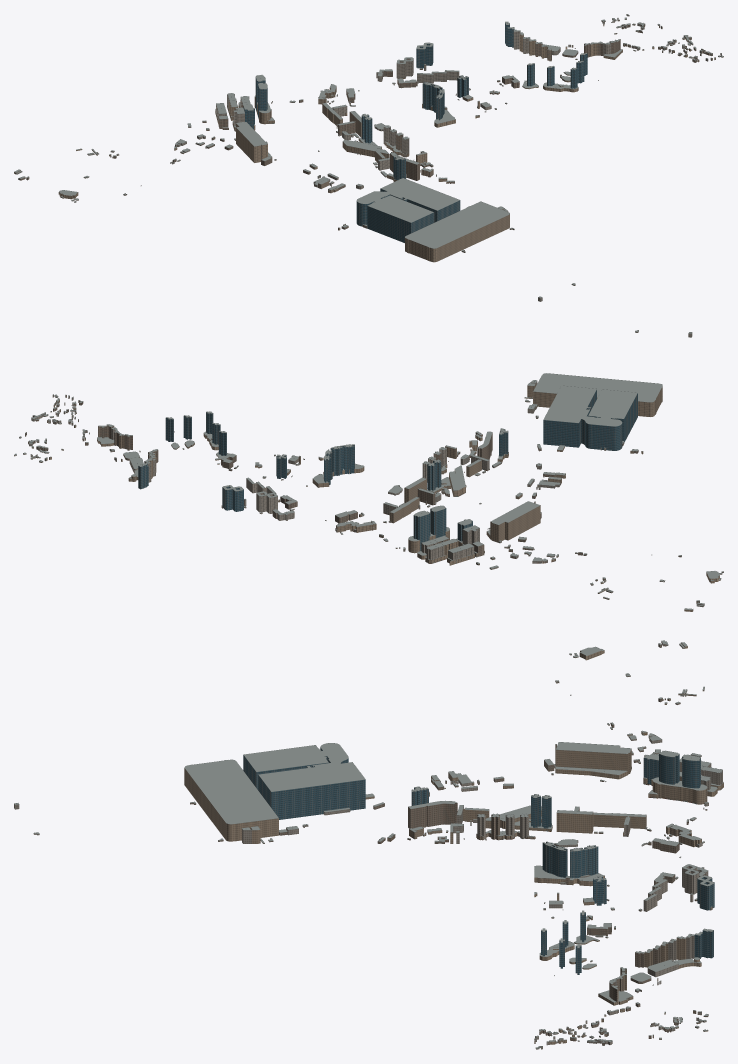
File: lai-king-buildings.glb
The picture shows the model from 3 angles, top to bottom: view 1: azimuth 30°, elevation 25°; view 2: azimuth 150°, elevation 25°; view 3: azimuth 270°, elevation 25°; orthographic projection. The views are drawn at different scales.
Visible parts, largest first — view 1: District_-40_-42, District_-38_-40, District_-41_-49, District_-37_-45, District_-37_-47, District_-28_-49, District_-30_-51, District_-38_-47, District_-40_-51, District_-39_-51, District_-34_-48; view 2: District_-40_-42, District_-38_-40, District_-41_-49, District_-40_-51, District_-39_-51, District_-34_-48, District_-37_-48, District_-37_-45, District_-33_-51, District_-37_-47, District_-28_-49, District_-30_-51 (+5 smaller); view 3: District_-40_-42, District_-38_-40, District_-41_-49, District_-39_-51, District_-37_-45, District_-34_-48, District_-30_-51, District_-37_-48, District_-37_-47, District_-30_-50, District_-37_-49, District_-39_-50.
Part boxes in pixels (left/top/right/bottom): District_-40_-42: left=356, top=178, right=460, bottom=242; District_-38_-40: left=405, top=201, right=509, bottom=262; District_-41_-49: left=224, top=121, right=267, bottom=162; District_-37_-45: left=390, top=152, right=433, bottom=180; District_-37_-47: left=358, top=117, right=403, bottom=156; District_-28_-49: left=590, top=39, right=622, bottom=59; District_-30_-51: left=505, top=21, right=530, bottom=53; District_-38_-47: left=342, top=139, right=389, bottom=158; District_-40_-51: left=215, top=93, right=238, bottom=128; District_-39_-51: left=238, top=75, right=271, bottom=124; District_-34_-48: left=422, top=84, right=455, bottom=127; District_-40_-42: left=543, top=385, right=637, bottom=450; District_-38_-40: left=533, top=373, right=662, bottom=416; District_-41_-49: left=490, top=501, right=540, bottom=542; District_-40_-51: left=425, top=539, right=484, bottom=565; District_-39_-51: left=403, top=510, right=449, bottom=559; District_-34_-48: left=312, top=445, right=364, bottom=487; District_-37_-48: left=404, top=463, right=435, bottom=503; District_-37_-45: left=445, top=431, right=492, bottom=459; District_-33_-51: left=221, top=485, right=246, bottom=511; District_-37_-47: left=422, top=456, right=450, bottom=493; District_-28_-49: left=97, top=424, right=124, bottom=448; District_-30_-51: left=128, top=457, right=155, bottom=489; District_-40_-42: left=243, top=743, right=365, bottom=819; District_-38_-40: left=184, top=759, right=278, bottom=841; District_-41_-49: left=556, top=742, right=631, bottom=774; District_-39_-51: left=652, top=754, right=717, bottom=806; District_-37_-45: left=408, top=800, right=457, bottom=843; District_-34_-48: left=534, top=846, right=604, bottom=886; District_-30_-51: left=668, top=928, right=713, bottom=968; District_-37_-48: left=541, top=795, right=593, bottom=833; District_-37_-47: left=485, top=794, right=552, bottom=840; District_-30_-50: left=635, top=941, right=678, bottom=977; District_-37_-49: left=593, top=812, right=646, bottom=836; District_-39_-50: left=648, top=750, right=679, bottom=798.
Size of what is drawn, in the model's own units: 2859 by 137 by 2107.
Materials: 7 (6 with a texture image).
